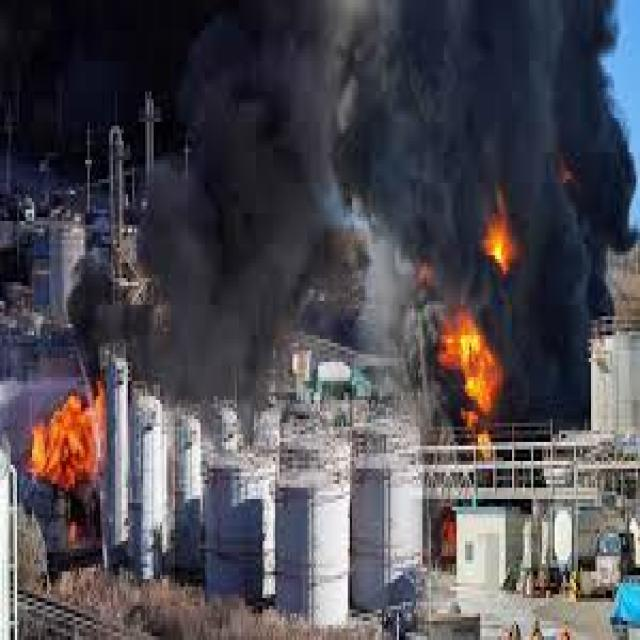explosion: (26, 0, 634, 575)
